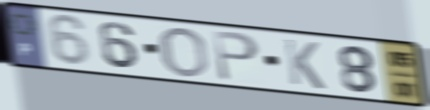6: (44, 12, 96, 70), (97, 20, 141, 71)
8: (337, 43, 379, 96)
K: (281, 37, 327, 92)
O: (159, 25, 211, 79)
P: (210, 28, 262, 84)
